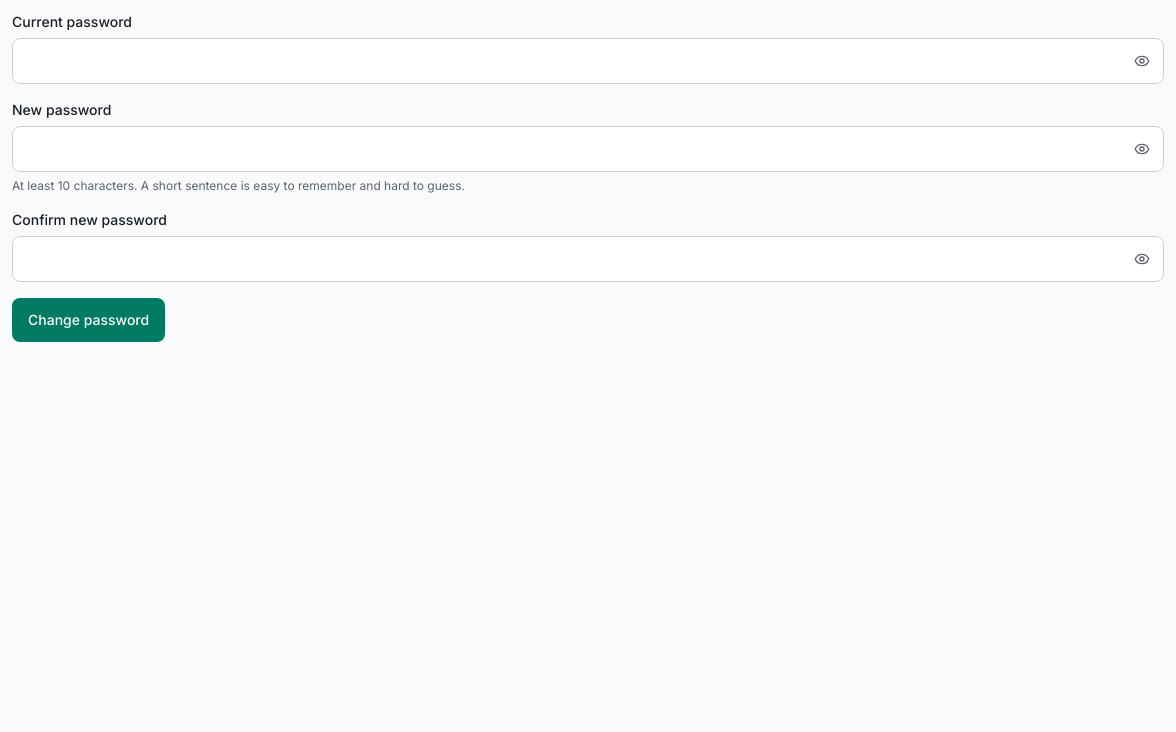
Test: ChangePasswordForm › says what is wrong with each field without asking the server
The image size is (1176, 732).
Step 1. Type "short" into the password field labelled "New password" → [588, 149], box [12, 126, 1164, 172]
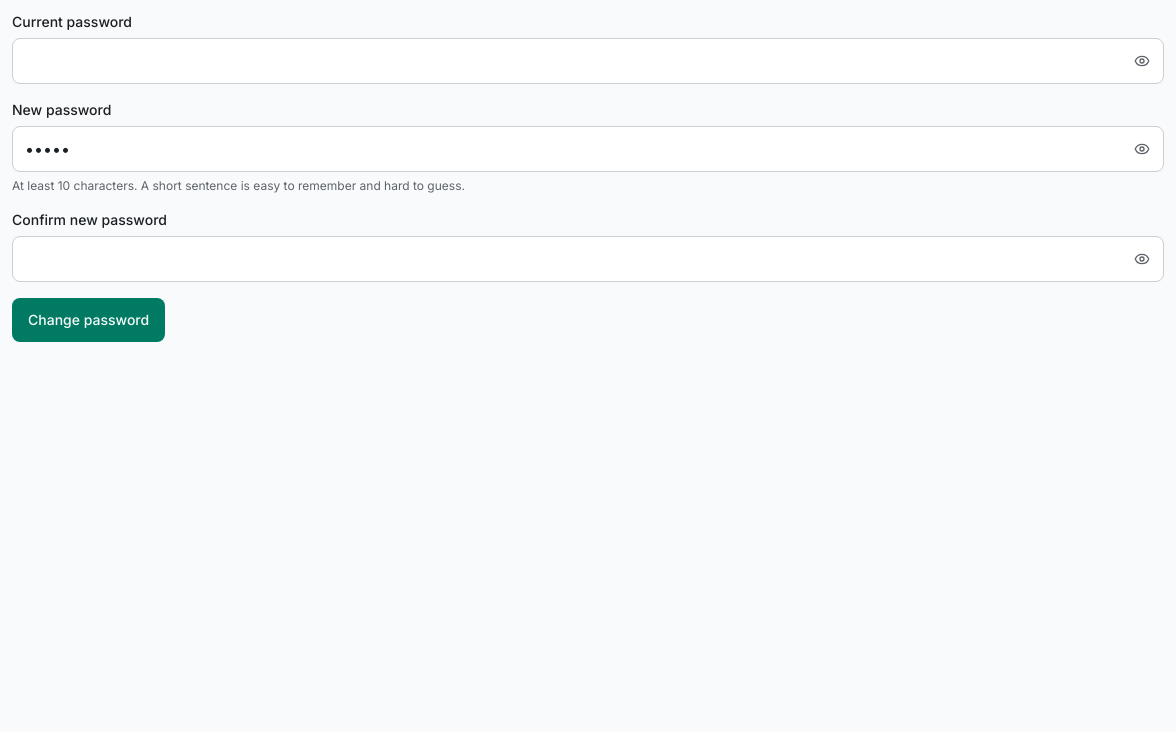
Step 2. Type "different" into the password field labelled "Confirm new password" → [588, 259], box [12, 236, 1164, 282]
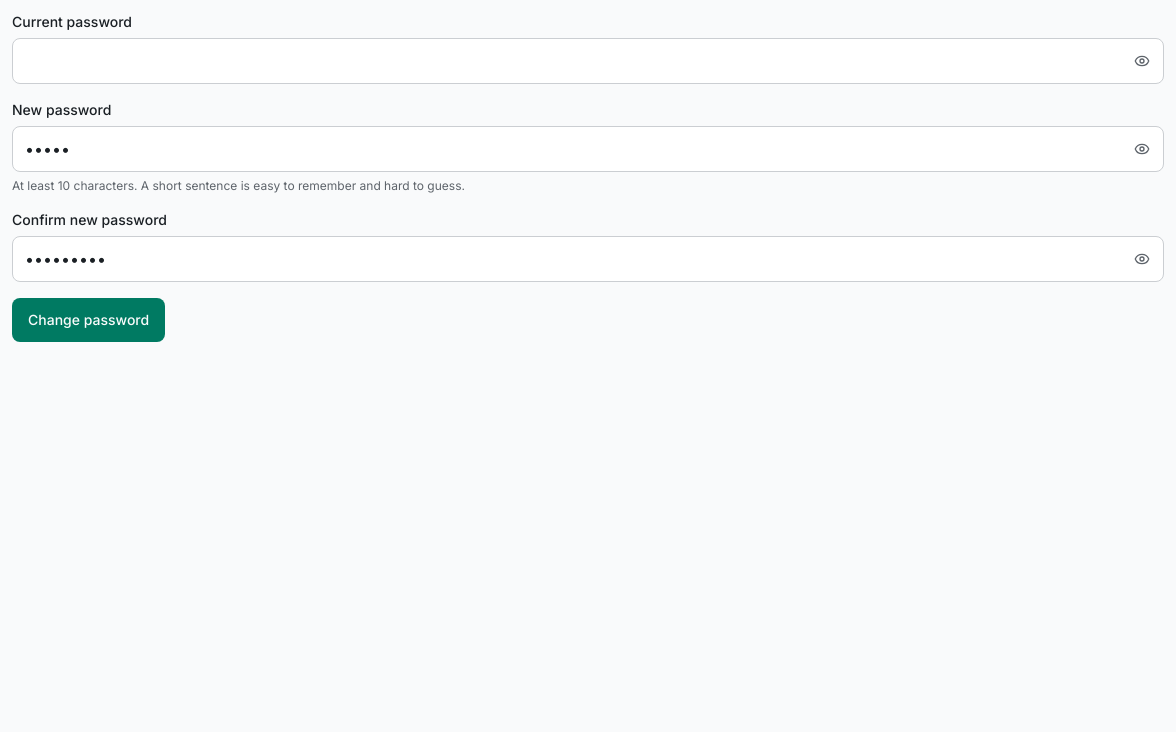
Step 3. Click the button "Change password" → [89, 320], box [12, 298, 165, 342]
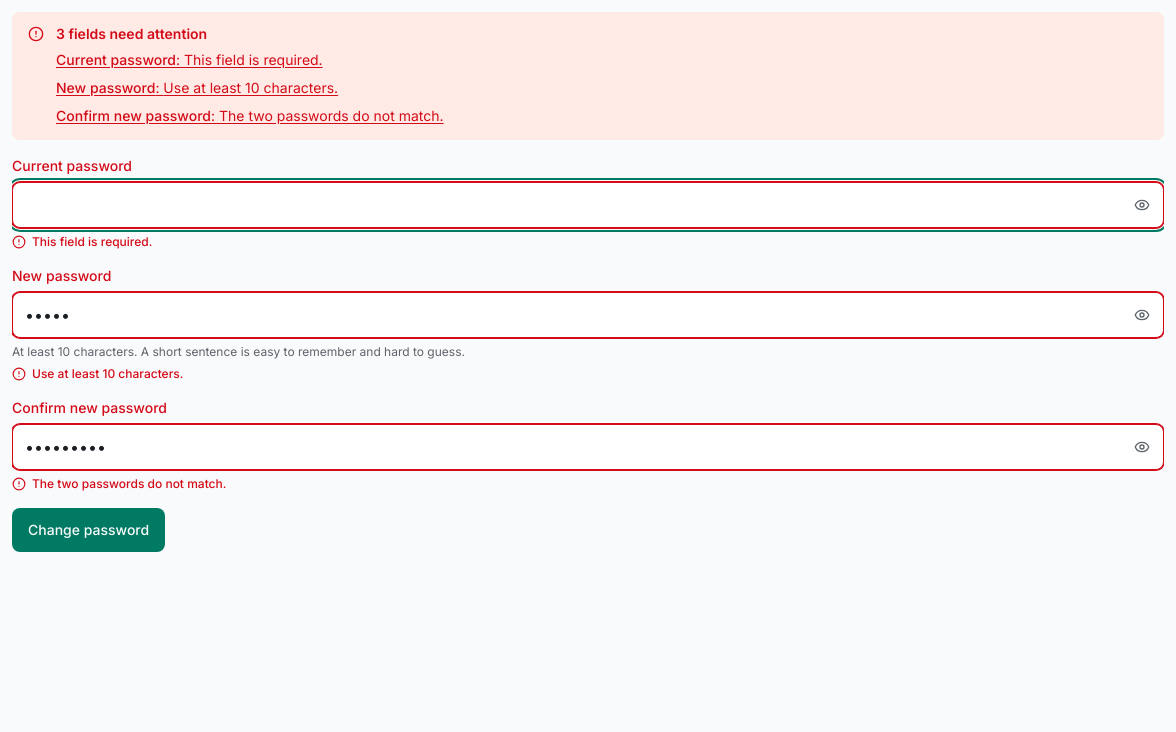
Expected: the message shows "3 fields need attention", [56, 25, 207, 42]
Expected: the button "New password: Use at least 10 characters." is shown, [56, 76, 338, 100]
